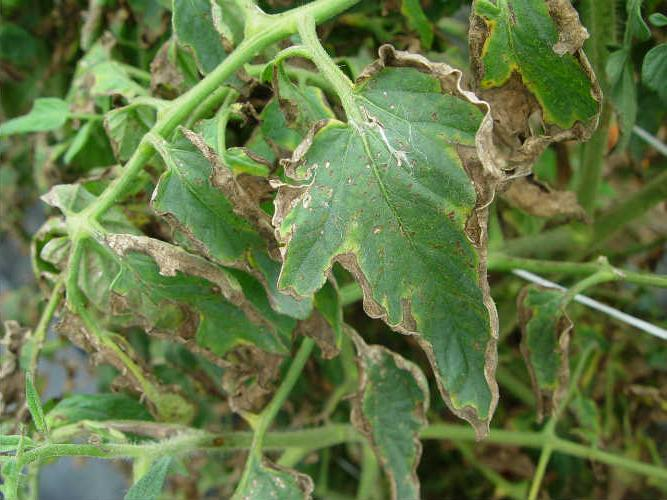Tomato leaf bacterial spot: (269, 17, 535, 441)
